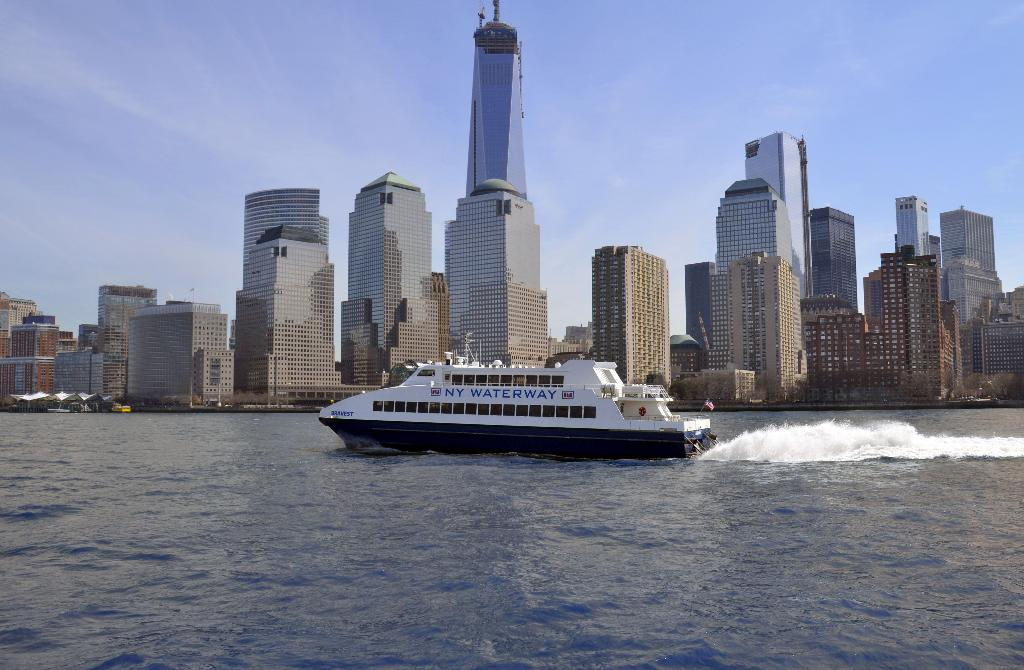PassengerShip: (310, 337, 730, 467)
